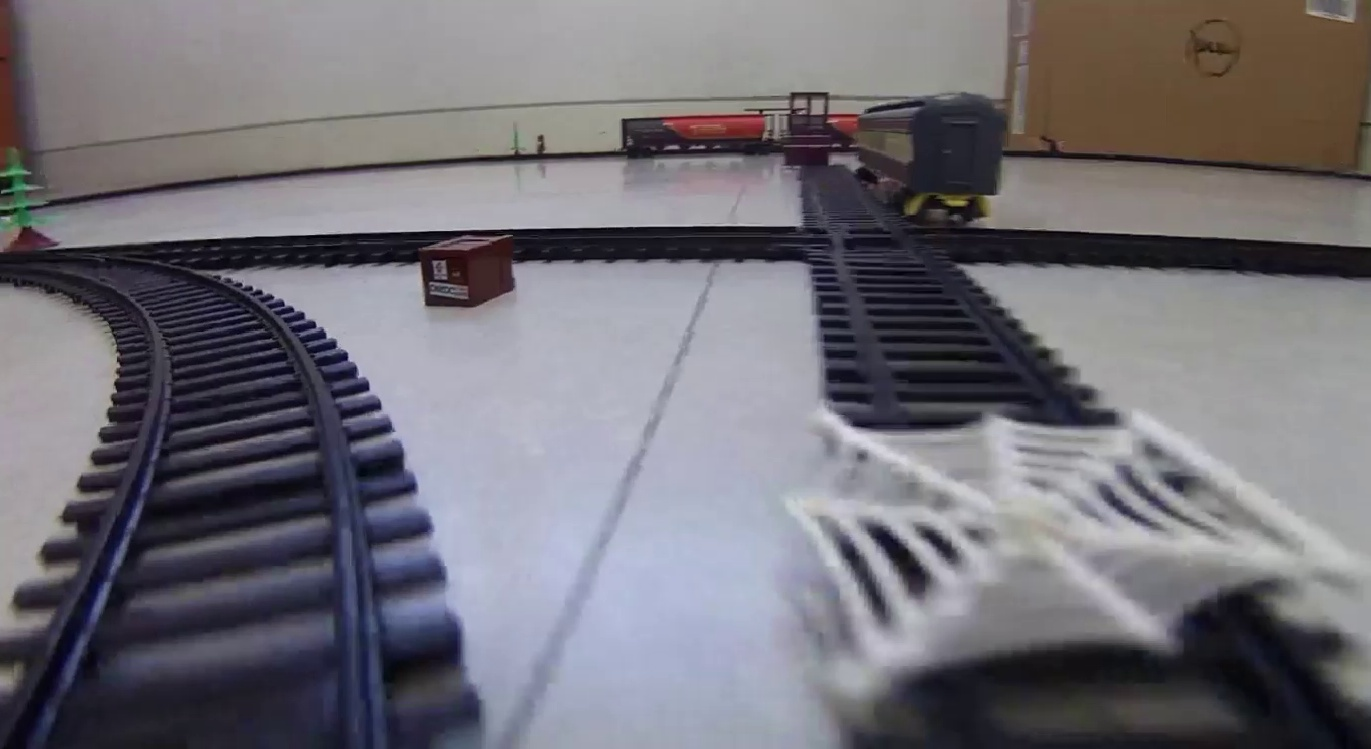box: (422, 234, 515, 311)
web: (793, 400, 1318, 655)
